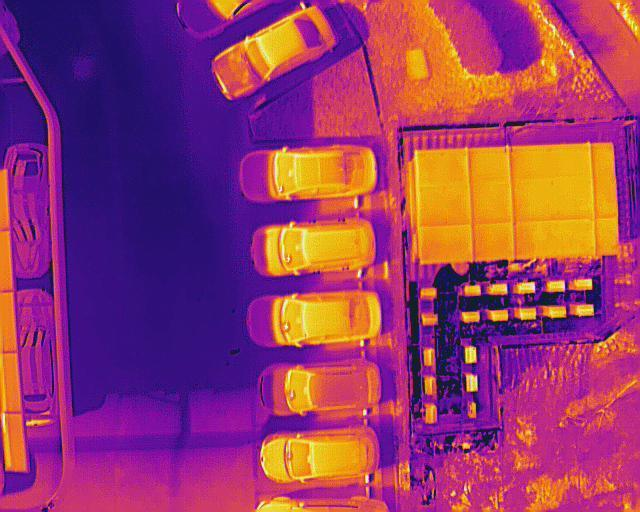Unclassified: (1, 414, 28, 473)
